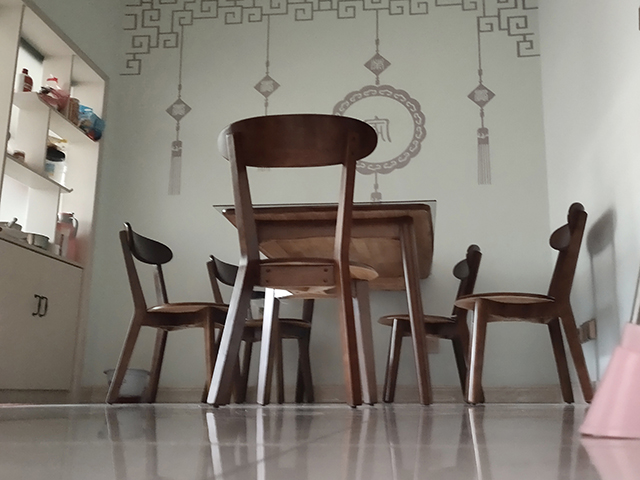cabinet: (1, 226, 91, 407)
stool: (202, 111, 381, 411), (465, 205, 595, 404), (110, 226, 241, 407), (369, 241, 486, 406)
table: (209, 196, 439, 408)
